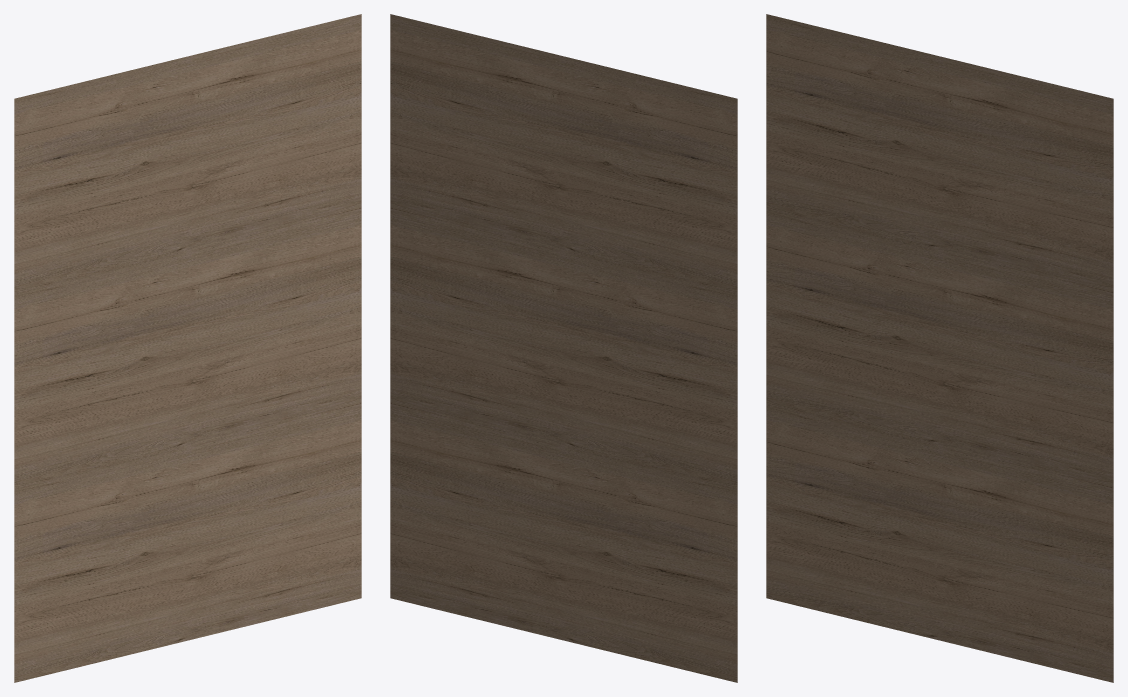
3 views of the same model, side by side, from view 1: azimuth 30°, elevation 25°; view 2: azimuth 150°, elevation 25°; view 3: azimuth 330°, elevation 25° (orthographic).
Parts seen in each view (by area): view 1: _PANEL_ba; view 2: _PANEL_ba; view 3: _PANEL_ba.
Part boxes in pixels (<box>): _PANEL_ba: <box>14,14,361,682</box>; _PANEL_ba: <box>390,14,737,682</box>; _PANEL_ba: <box>766,14,1113,682</box>.
Size of the model in its own units: 900 by 1446 by 6.32e-05.
